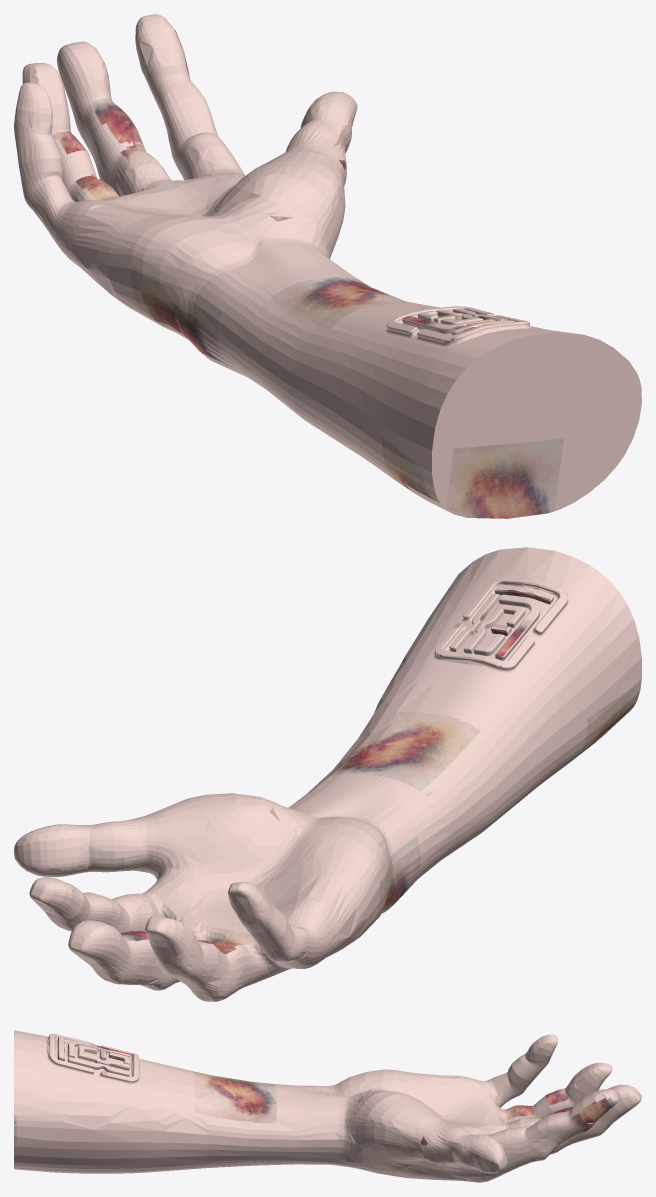
The model's file is hand_bruise1.dae.
3 renders of one model, top to bottom at view 1: azimuth 30°, elevation 25°; view 2: azimuth 150°, elevation 25°; view 3: azimuth 270°, elevation 25°, orthographic. The views are drawn at different scales.
Visible parts, largest first — view 1: node0; view 2: node0; view 3: node0.
Part boxes in pixels (left/top/right/bottom): node0: left=14, top=14, right=641, bottom=518; node0: left=14, top=547, right=641, bottom=1001; node0: left=14, top=1030, right=641, bottom=1182.
Bounding box in the file's own units: 0.1743 × 0.4653 × 0.1043.
1 material, 1 textured.
